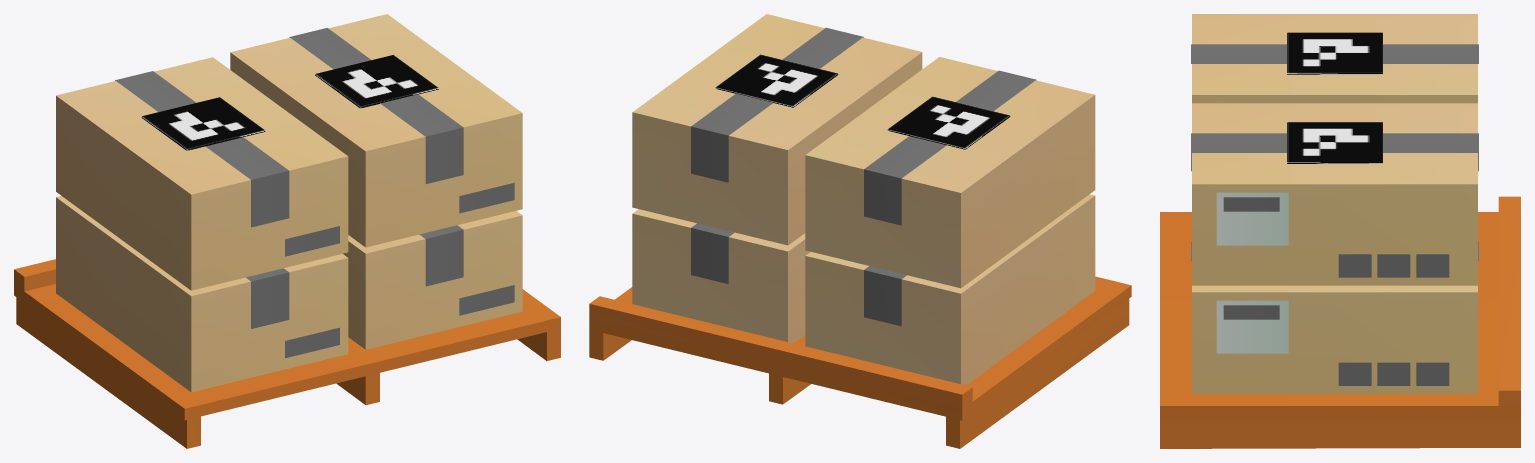
File: aruco_on_box.gltf
3 views of the same model, side by side, from view 1: azimuth 30°, elevation 25°; view 2: azimuth 150°, elevation 25°; view 3: azimuth 270°, elevation 25° (orthographic). The views are drawn at different scales.
Visible parts, largest first — view 1: Cardboard_wood_pallet_01, marker_plate, marker_plate.001; view 2: Cardboard_wood_pallet_01, marker_plate, marker_plate.001; view 3: Cardboard_wood_pallet_01, marker_plate, marker_plate.001.
Boxes of the visible parts, <box> form: Cardboard_wood_pallet_01: <box>14,14,560,448</box>; marker_plate: <box>141,97,265,150</box>; marker_plate.001: <box>315,55,438,108</box>; Cardboard_wood_pallet_01: <box>589,14,1131,448</box>; marker_plate: <box>887,96,1010,149</box>; marker_plate.001: <box>715,54,838,107</box>; Cardboard_wood_pallet_01: <box>1160,14,1520,448</box>; marker_plate: <box>1287,32,1382,74</box>; marker_plate.001: <box>1287,122,1382,163</box>.
Bounding box in the file's own units: 3.83 × 2.35 × 3.01.
Materials: 3 (3 with a texture image).
